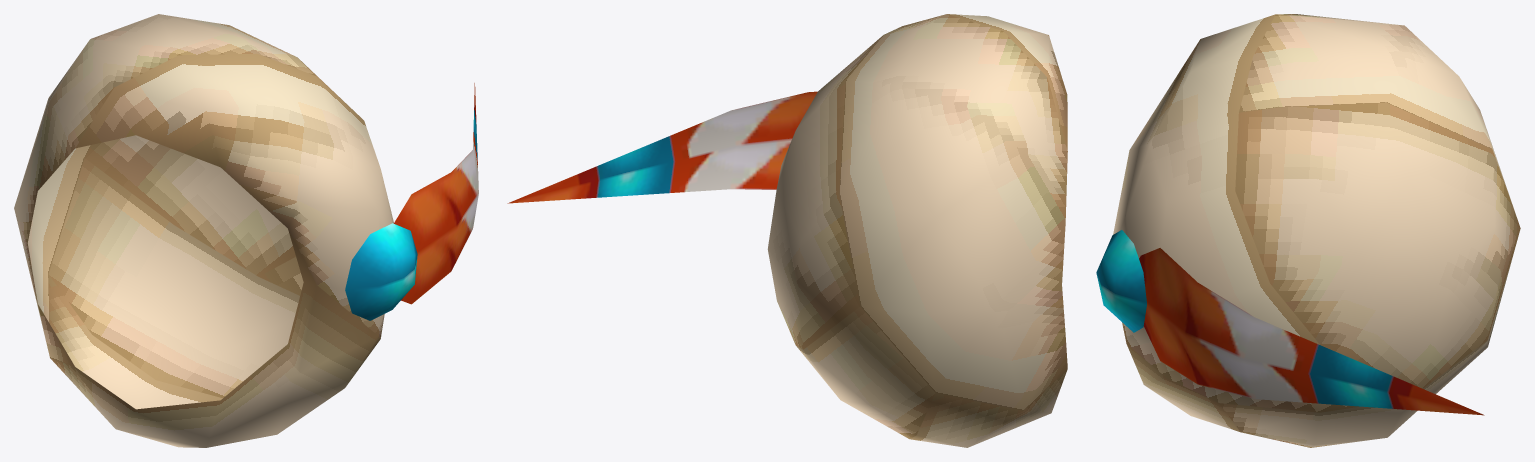
The model's file is hlmt_turban.dae.
3 views of the same model, side by side, from view 1: azimuth 30°, elevation 25°; view 2: azimuth 150°, elevation 25°; view 3: azimuth 270°, elevation 25° (orthographic). The views are drawn at different scales.
Parts seen in each view (by area): view 1: hlmt_turban; view 2: hlmt_turban; view 3: hlmt_turban.
Boxes of the visible parts, bbox=[...] form: hlmt_turban: bbox=[14, 14, 478, 447]; hlmt_turban: bbox=[507, 14, 1067, 447]; hlmt_turban: bbox=[1096, 14, 1520, 447].
Size of the model in its own units: 40.65 by 30.35 by 28.9.
2 materials, 2 textured.
